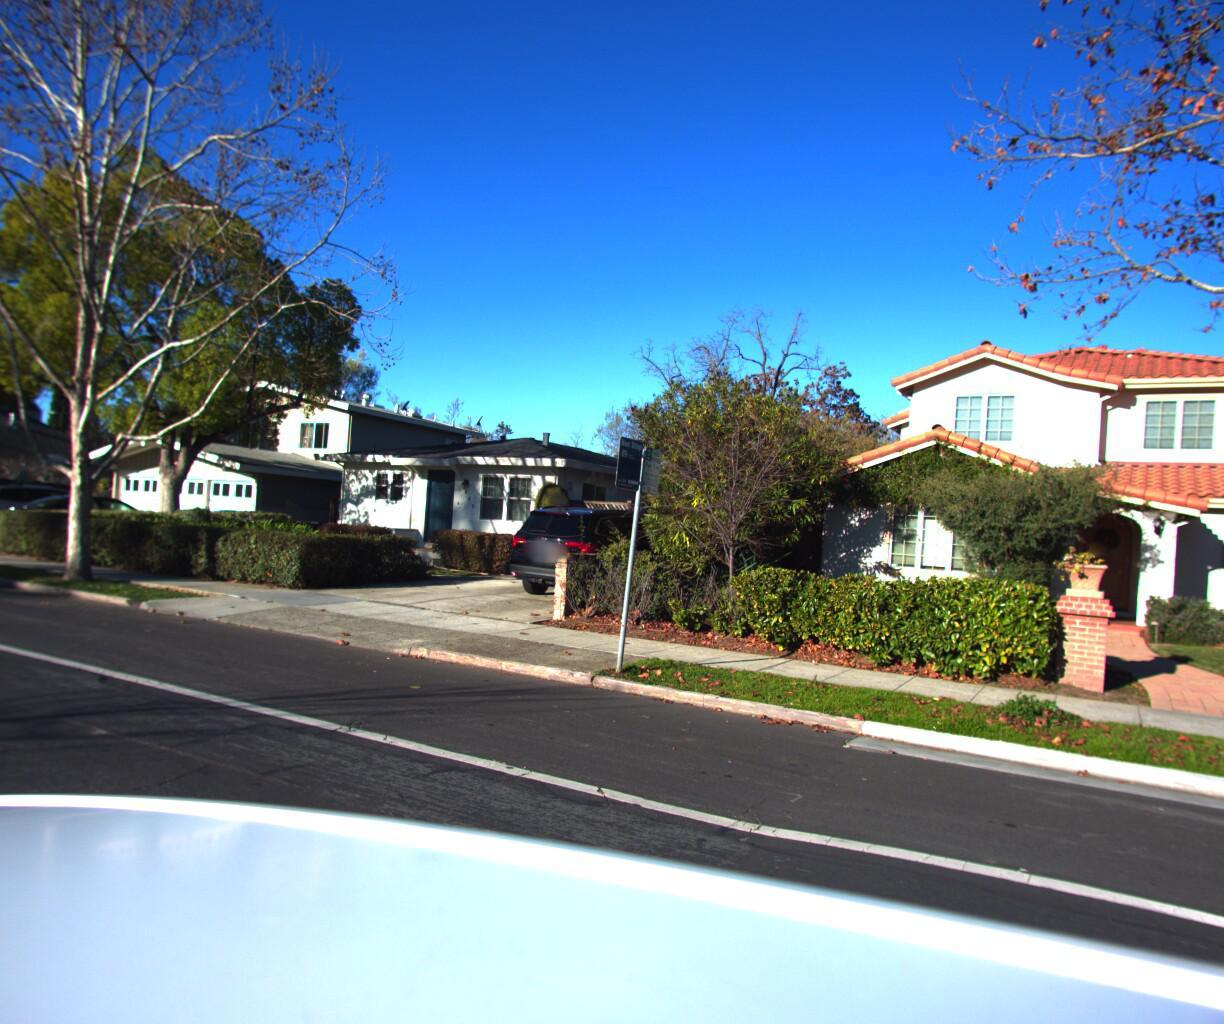car: (492, 502, 691, 614), (0, 494, 174, 557), (0, 484, 127, 551)
